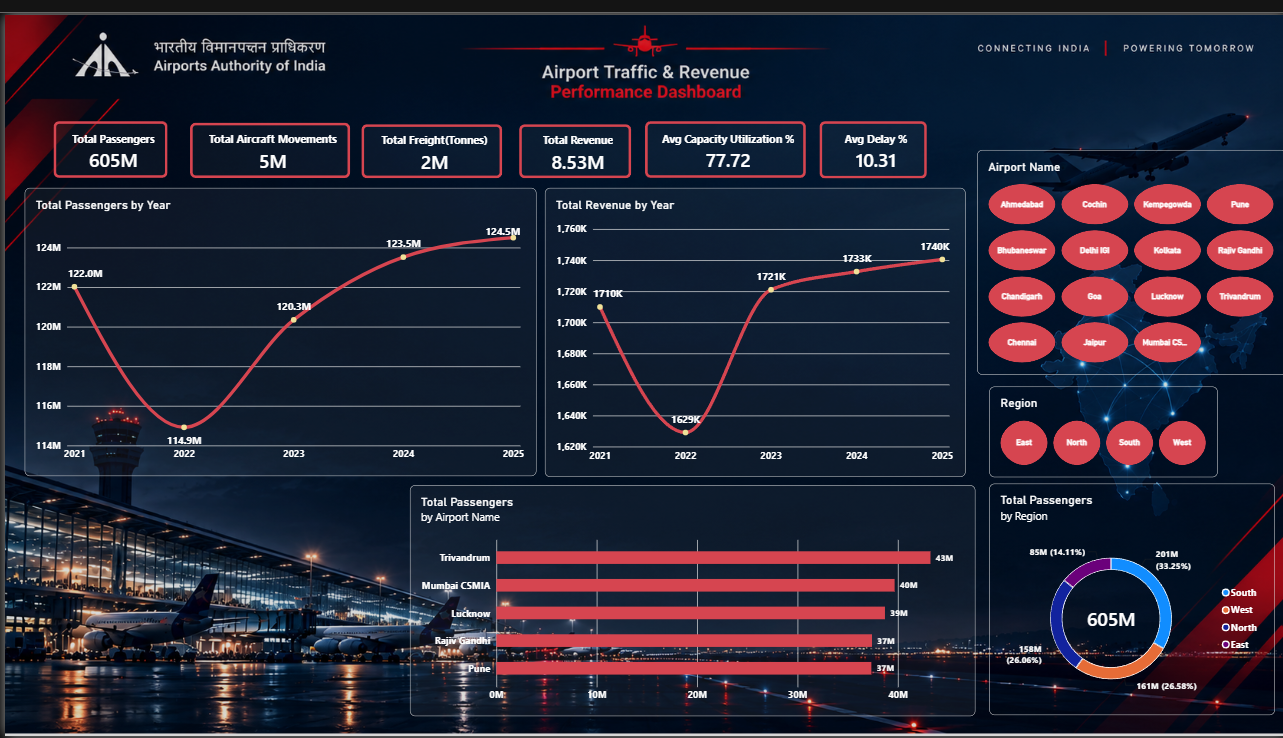

What the dashboard file says about the page in this screenshot:
{"tool":"powerbi","page":{"name":"Overview","canvas":[1920,1080],"ordinal":0},"visuals":[{"type":"cardVisual","fields":{"Data":["Airport_Traffic_Fact.Total Passengers"]},"box":[73.3,160,171.7,85],"z":0},{"type":"cardVisual","fields":{"Data":["Airport_Traffic_Fact.Total Aircraft Movements"]},"box":[278.3,161.7,240,83.3],"z":1000},{"type":"cardVisual","fields":{"Data":["Airport_Traffic_Fact.Total Freight(Tonnes)"]},"box":[535,163.3,211.7,81.7],"z":2000},{"type":"cardVisual","fields":{"Data":["Airport_Traffic_Fact.Total Revenue"]},"box":[770,163.3,168.3,81.7],"z":3000},{"type":"cardVisual","fields":{"Data":["Airport_Traffic_Fact.Avg Delay %"]},"box":[1220,158.3,161.7,86.7],"z":4000},{"type":"cardVisual","fields":{"Data":["Airport_Traffic_Fact.Avg Capacity Utilization %"]},"box":[960,160,241.7,85],"z":5000},{"type":"lineChart","fields":{"Category":["Date_Dim.Date.Variation.Date Hierarchy.Year","Date_Dim.Date.Variation.Date Hierarchy.Quarter","Date_Dim.Date.Variation.Date Hierarchy.Month","Date_Dim.Date.Variation.Date Hierarchy.Day"],"Y":["Airport_Traffic_Fact.Total Passengers"]},"box":[30,260,766.7,431.7],"z":6000},{"type":"lineChart","fields":{"Category":["Date_Dim.Date.Variation.Date Hierarchy.Year","Date_Dim.Date.Variation.Date Hierarchy.Quarter","Date_Dim.Date.Variation.Date Hierarchy.Month","Date_Dim.Date.Variation.Date Hierarchy.Day"],"Y":["Airport_Traffic_Fact.Total Revenue"]},"box":[810,258.3,630,433.3],"z":7000},{"type":"donutChart","fields":{"Category":["Airport_Dim.Region"],"Y":["Airport_Traffic_Fact.Total Passengers"]},"box":[1474.4,703.3,427.8,346.7],"z":8000},{"type":"clusteredBarChart","fields":{"Category":["Airport_Dim.Airport Name"],"Y":["Airport_Traffic_Fact.Total Passengers"]},"box":[607.5,703.8,847.5,346.2],"z":9000},{"type":"advancedSlicerVisual","fields":{"Values":["Airport_Dim.Airport Name"]},"box":[1456.7,203.3,463.3,336.7],"z":10000},{"type":"advancedSlicerVisual","fields":{"Values":["Airport_Dim.Region"]},"box":[1474.4,556.7,342,136],"z":11000}]}

Visuals, with their boxes in screenshot pixels (x1, y1, x2, y2), scaled from the page's 1920x1080 canvas onto the 1283x738 screenshot:
cardVisual - Airport_Traffic_Fact.Total Passengers: locate(49, 109, 164, 167)
cardVisual - Airport_Traffic_Fact.Total Aircraft Movements: locate(186, 110, 346, 167)
cardVisual - Airport_Traffic_Fact.Total Freight(Tonnes): locate(358, 112, 499, 167)
cardVisual - Airport_Traffic_Fact.Total Revenue: locate(515, 112, 627, 167)
cardVisual - Airport_Traffic_Fact.Avg Delay %: locate(815, 108, 923, 167)
cardVisual - Airport_Traffic_Fact.Avg Capacity Utilization %: locate(642, 109, 803, 167)
lineChart - Date_Dim.Date.Variation.Date Hierarchy.Year x Date_Dim.Date.Variation.Date Hierarchy.Quarter: locate(20, 178, 532, 473)
lineChart - Date_Dim.Date.Variation.Date Hierarchy.Year x Date_Dim.Date.Variation.Date Hierarchy.Quarter: locate(541, 177, 962, 473)
donutChart - Airport_Dim.Region x Airport_Traffic_Fact.Total Passengers: locate(985, 481, 1271, 718)
clusteredBarChart - Airport_Dim.Airport Name x Airport_Traffic_Fact.Total Passengers: locate(406, 481, 972, 718)
advancedSlicerVisual - Airport_Dim.Airport Name: locate(973, 139, 1282, 369)
advancedSlicerVisual - Airport_Dim.Region: locate(985, 380, 1214, 473)
